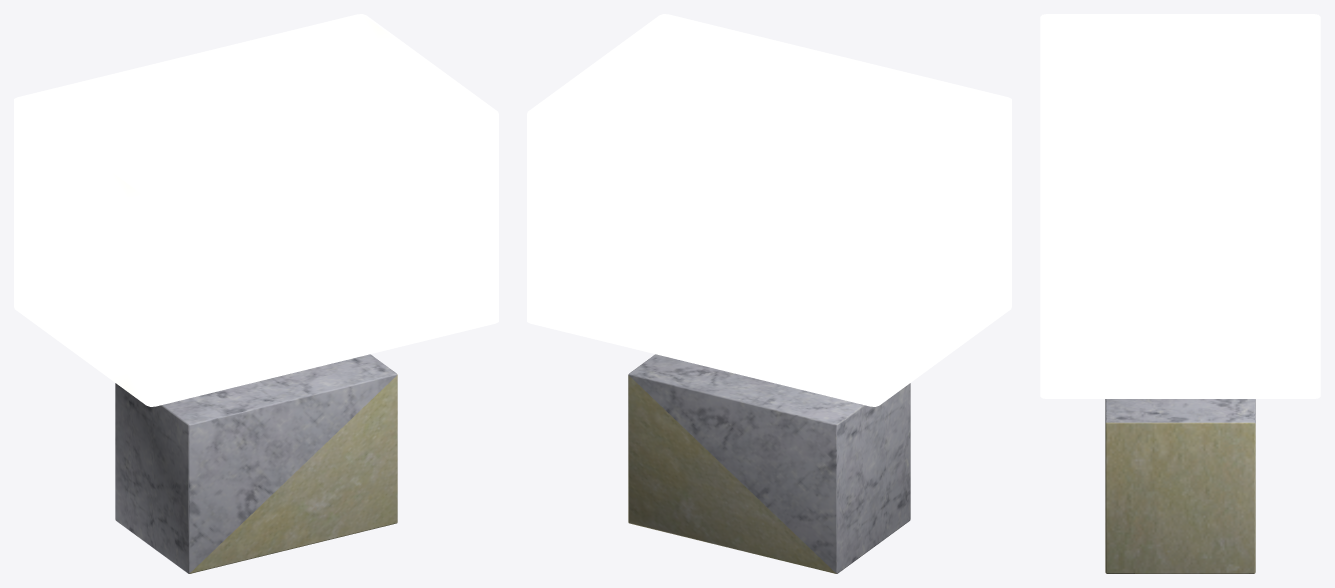
Rendered from Lights_Table_Lamps_6.fbx.
3 renders of one model, left to right at view 1: azimuth 30°, elevation 25°; view 2: azimuth 150°, elevation 25°; view 3: azimuth 270°, elevation 25°, orthographic.
Visible parts, largest first — view 1: Cylinder.025; view 2: Cylinder.025; view 3: Cylinder.025.
Boxes of the visible parts, x1,y1,x2,y2 form: Cylinder.025: [14, 14, 498, 573]; Cylinder.025: [527, 14, 1011, 573]; Cylinder.025: [1040, 14, 1320, 573].
Bounding box in the file's own units: 31.94 × 36.1 × 21.75.
